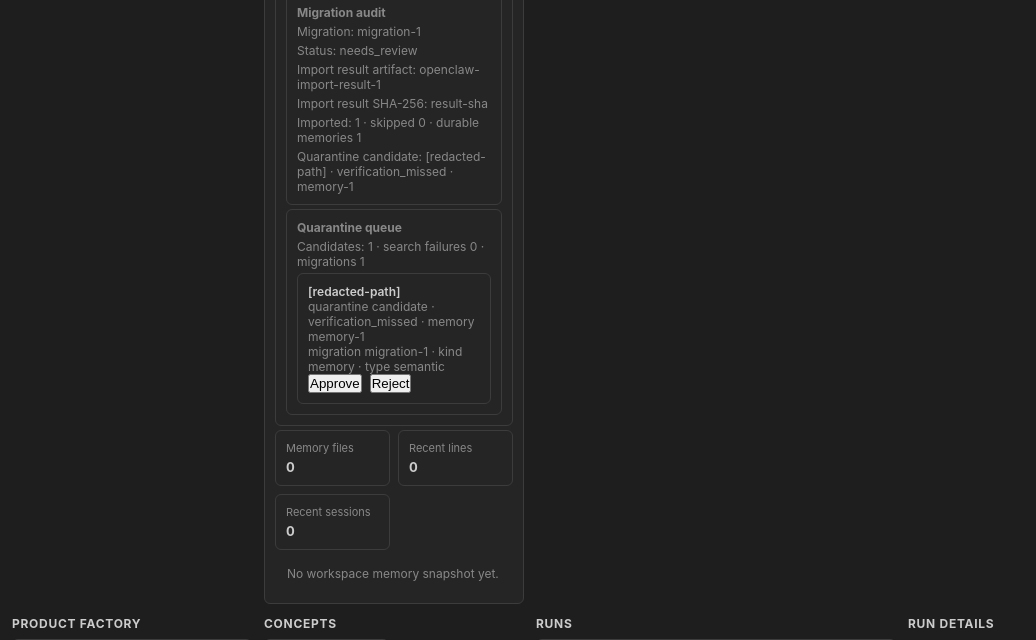
Test: OrchestrationPanel › shows contradiction details inline when quarantine review is blocked
Click the button "Approve": [335, 384] box [308, 374, 362, 393]
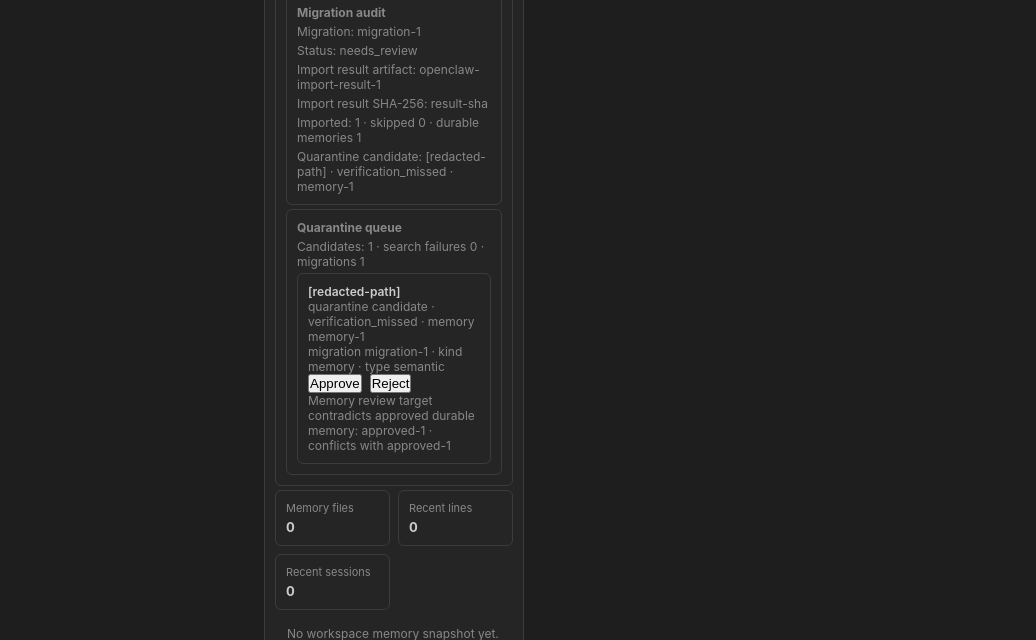
Expected: the text "Candidates: 1 · search failures 0 · migrations 1" is shown, [297, 239, 491, 269]
Result: the text "Memory review target contradicts approved durable memory: approved-1 · conflicts with approved-1" is shown at [308, 393, 475, 453]
